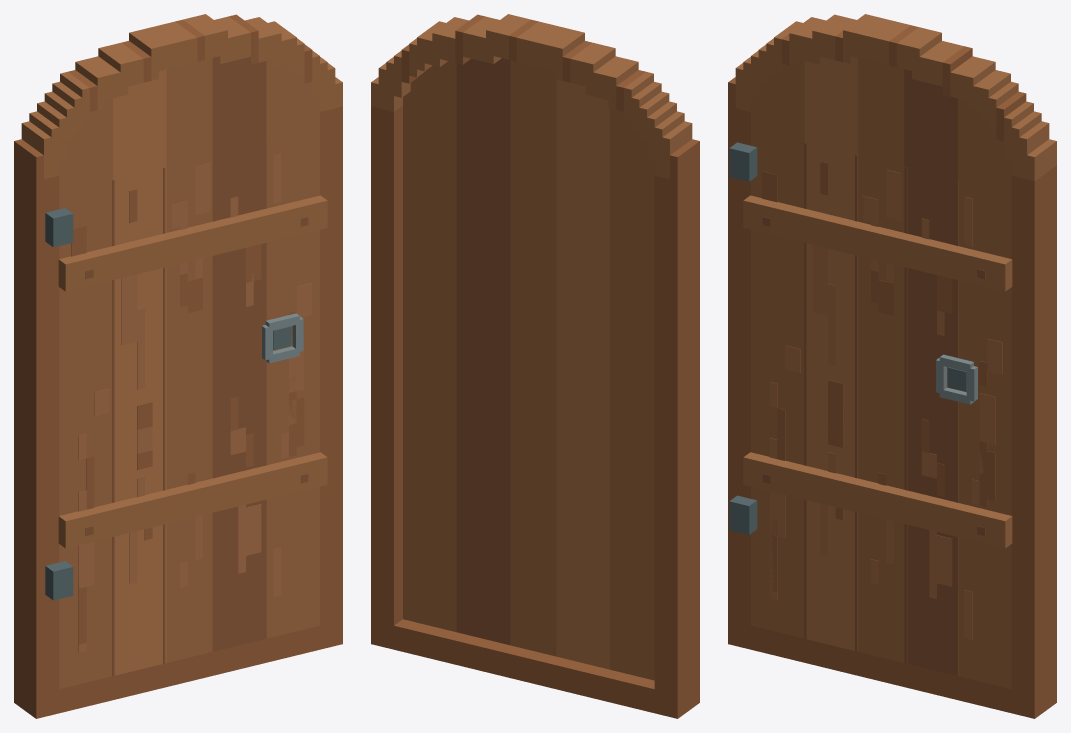
File: WoodDoor_Arched_1x1.fbx
3 views of the same model, side by side, from view 1: azimuth 30°, elevation 25°; view 2: azimuth 150°, elevation 25°; view 3: azimuth 330°, elevation 25° (orthographic).
Parts seen in each view (by area): view 1: WoodDoor_Arched_1x1_FrameJamb-1, WoodDoor_Arched_1x1_FrameJamb1, WoodDoor_Arched_1x1_Crossbar0, WoodDoor_Arched_1x1_Crossbar1, WoodDoor_Arched_1x1_FrameThreshold, WoodDoor_Arched_1x1_ArchPlankColumn14, WoodDoor_Arched_1x1_ArchPlankColumn5, WoodDoor_Arched_1x1_ArchPlankColumn17, WoodDoor_Arched_1x1_ArchPlankColumn21, WoodDoor_Arched_1x1_ArchPlankColumn8, WoodDoor_Arched_1x1_ArchPlankColumn12, WoodDoor_Arched_1x1_ArchPlankColumn32 (+53 smaller); view 2: WoodDoor_Arched_1x1_FrameJamb-1, WoodDoor_Arched_1x1_FrameJamb1, WoodDoor_Arched_1x1_FrameThreshold, WoodDoor_Arched_1x1_ArchPlankColumn20, WoodDoor_Arched_1x1_ArchPlankColumn17, WoodDoor_Arched_1x1_ArchPlankColumn14, WoodDoor_Arched_1x1_ArchPlankColumn11, WoodDoor_Arched_1x1_ArchPlankColumn23, WoodDoor_Arched_1x1_ArchPlankColumn26, WoodDoor_Arched_1x1_ArchPlankColumn8, WoodDoor_Arched_1x1_ArchPlankColumn29, WoodDoor_Arched_1x1_ArchPlankColumn5 (+35 smaller); view 3: WoodDoor_Arched_1x1_FrameJamb1, WoodDoor_Arched_1x1_FrameJamb-1, WoodDoor_Arched_1x1_Crossbar0, WoodDoor_Arched_1x1_Crossbar1, WoodDoor_Arched_1x1_FrameThreshold, WoodDoor_Arched_1x1_ArchPlankColumn19, WoodDoor_Arched_1x1_ArchPlankColumn22, WoodDoor_Arched_1x1_ArchPlankColumn1, WoodDoor_Arched_1x1_ArchPlankColumn14, WoodDoor_Arched_1x1_ArchPlankColumn12, WoodDoor_Arched_1x1_ArchPlankColumn21, WoodDoor_Arched_1x1_ArchPlankColumn16 (+55 smaller).
Part boxes in pixels (x1,y1,x2,y2): WoodDoor_Arched_1x1_FrameJamb-1: (14, 165, 59, 718); WoodDoor_Arched_1x1_FrameJamb1: (320, 106, 342, 649); WoodDoor_Arched_1x1_Crossbar0: (58, 452, 327, 548); WoodDoor_Arched_1x1_Crossbar1: (58, 195, 327, 291); WoodDoor_Arched_1x1_FrameThreshold: (59, 625, 319, 713); WoodDoor_Arched_1x1_ArchPlankColumn14: (166, 67, 174, 662); WoodDoor_Arched_1x1_ArchPlankColumn5: (97, 108, 105, 679); WoodDoor_Arched_1x1_ArchPlankColumn17: (189, 62, 197, 657); WoodDoor_Arched_1x1_ArchPlankColumn21: (220, 62, 227, 649); WoodDoor_Arched_1x1_ArchPlankColumn8: (120, 94, 128, 673); WoodDoor_Arched_1x1_ArchPlankColumn12: (151, 79, 158, 666); WoodDoor_Arched_1x1_ArchPlankColumn32: (304, 82, 312, 629); WoodDoor_Arched_1x1_FrameJamb-1: (654, 165, 699, 718); WoodDoor_Arched_1x1_FrameJamb1: (371, 106, 402, 649); WoodDoor_Arched_1x1_FrameThreshold: (394, 619, 654, 713); WoodDoor_Arched_1x1_ArchPlankColumn20: (502, 58, 510, 645); WoodDoor_Arched_1x1_ArchPlankColumn17: (525, 64, 533, 650); WoodDoor_Arched_1x1_ArchPlankColumn14: (548, 69, 556, 656); WoodDoor_Arched_1x1_ArchPlankColumn11: (571, 83, 579, 661); WoodDoor_Arched_1x1_ArchPlankColumn23: (479, 61, 487, 639); WoodDoor_Arched_1x1_ArchPlankColumn26: (456, 63, 464, 633); WoodDoor_Arched_1x1_ArchPlankColumn8: (594, 97, 602, 667); WoodDoor_Arched_1x1_ArchPlankColumn29: (433, 65, 441, 628); WoodDoor_Arched_1x1_ArchPlankColumn5: (617, 110, 625, 673); WoodDoor_Arched_1x1_FrameJamb1: (1011, 165, 1056, 718); WoodDoor_Arched_1x1_FrameJamb-1: (728, 106, 750, 649); WoodDoor_Arched_1x1_Crossbar0: (743, 452, 1012, 548); WoodDoor_Arched_1x1_Crossbar1: (743, 195, 1012, 291); WoodDoor_Arched_1x1_FrameThreshold: (751, 625, 1011, 713); WoodDoor_Arched_1x1_ArchPlankColumn19: (896, 67, 904, 662); WoodDoor_Arched_1x1_ArchPlankColumn22: (919, 81, 927, 668); WoodDoor_Arched_1x1_ArchPlankColumn1: (758, 82, 766, 629); WoodDoor_Arched_1x1_ArchPlankColumn14: (858, 58, 865, 653); WoodDoor_Arched_1x1_ArchPlankColumn12: (843, 62, 850, 649); WoodDoor_Arched_1x1_ArchPlankColumn21: (912, 79, 919, 666); WoodDoor_Arched_1x1_ArchPlankColumn16: (873, 62, 881, 657).
Size of the model in its own units: 100 by 200 by 18.5.
